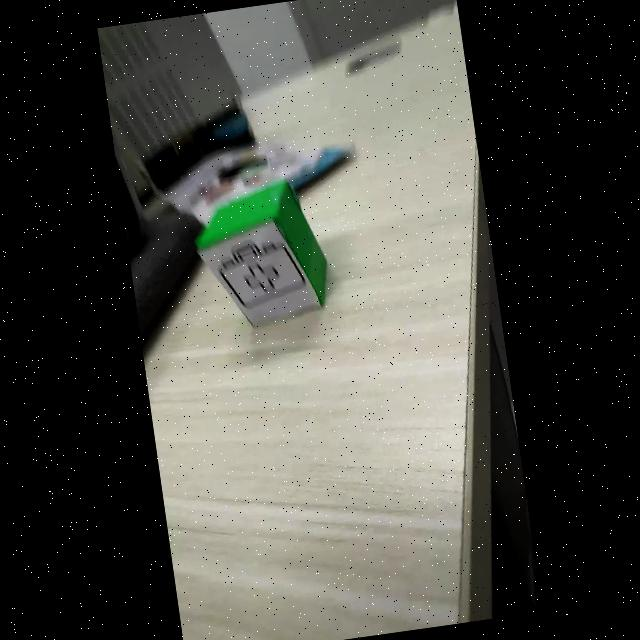Medkit: (220, 240, 313, 308)
